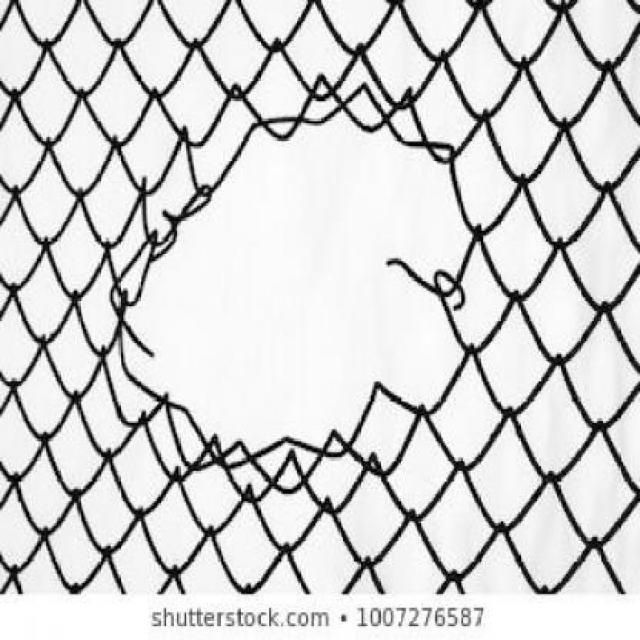fence line: (105, 117, 504, 477)
